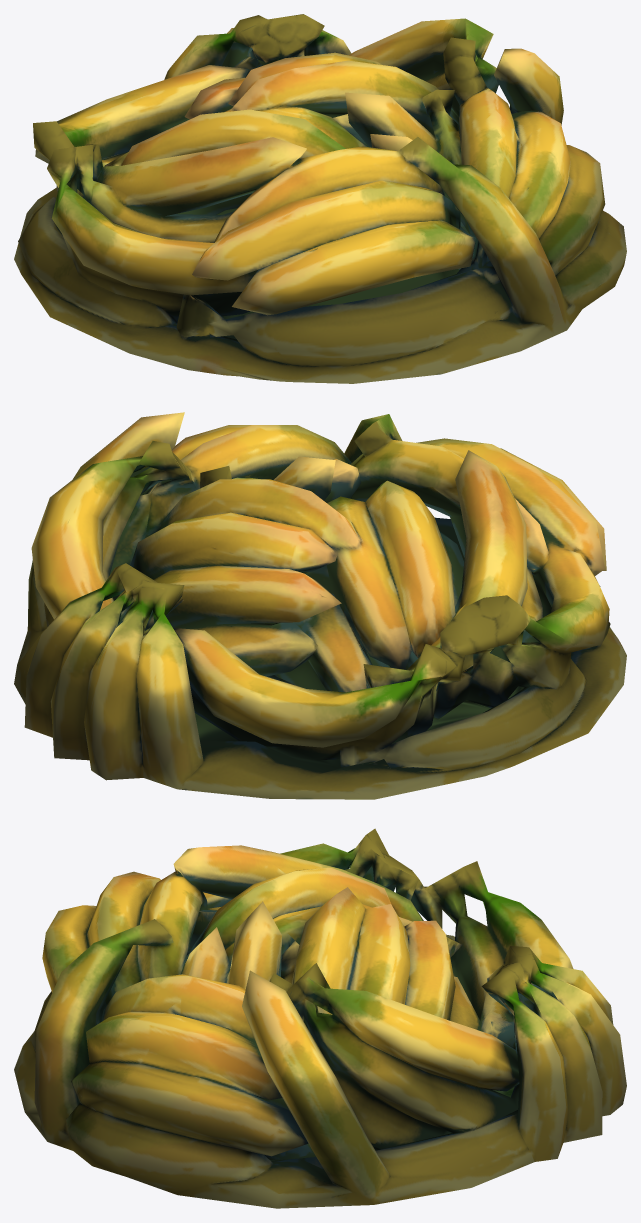
File: Bananas.fbx
The picture shows the model from 3 angles, top to bottom: view 1: azimuth 30°, elevation 25°; view 2: azimuth 150°, elevation 25°; view 3: azimuth 270°, elevation 25°; orthographic projection. The views are drawn at different scales.
Visible parts, largest first — view 1: Bananas_LOD0; view 2: Bananas_LOD0; view 3: Bananas_LOD0.
Boxes of the visible parts, bbox=[...] form: Bananas_LOD0: bbox=[14, 14, 626, 383]; Bananas_LOD0: bbox=[14, 412, 626, 799]; Bananas_LOD0: bbox=[14, 828, 626, 1208].
Size of what is drawn, in the model's own units: 0.5118 by 0.1816 by 0.5238.
Materials: 1 (1 with a texture image).
